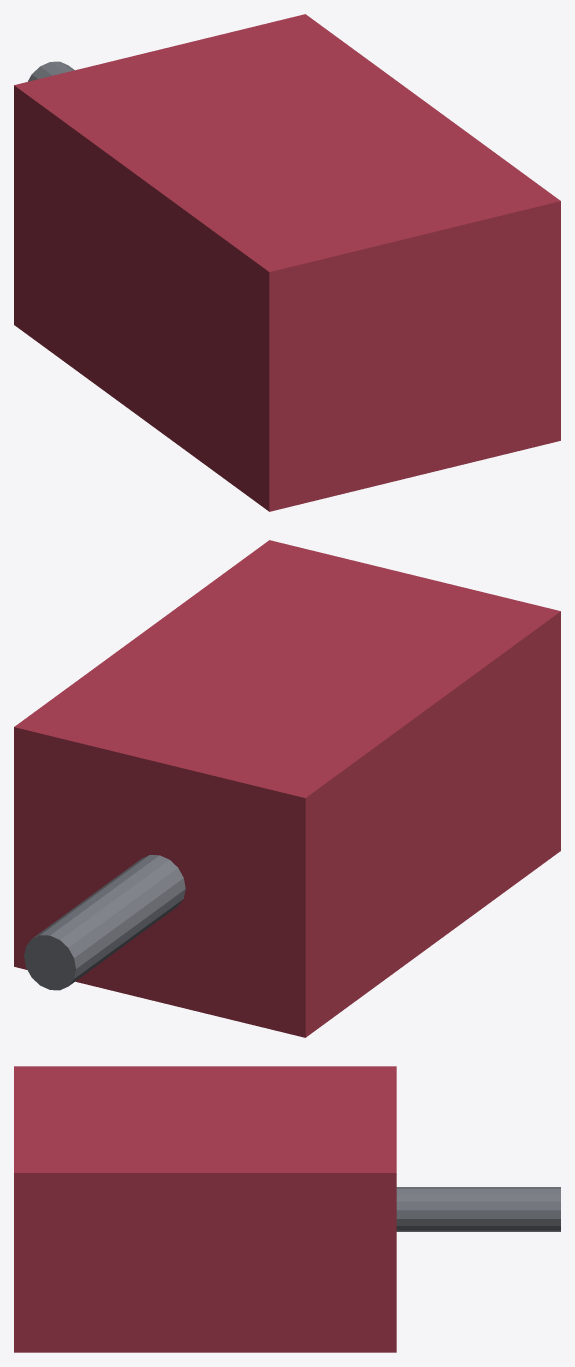
Rendered from mailbox_v01.glb.
3 renders of one model, top to bottom at view 1: azimuth 30°, elevation 25°; view 2: azimuth 150°, elevation 25°; view 3: azimuth 270°, elevation 25°, orthographic. The views are drawn at different scales.
Visible parts, largest first — view 1: box_0; view 2: box_0, cylinder_1; view 3: box_0, cylinder_1.
Boxes of the visible parts, <box> form: box_0: <box>14,14,560,511</box>; box_0: <box>14,540,560,1037</box>; cylinder_1: <box>24,855,185,990</box>; box_0: <box>14,1066,396,1352</box>; cylinder_1: <box>396,1187,560,1231</box>.
Size of the model in its own units: 0.56 by 0.44 by 1.22.
